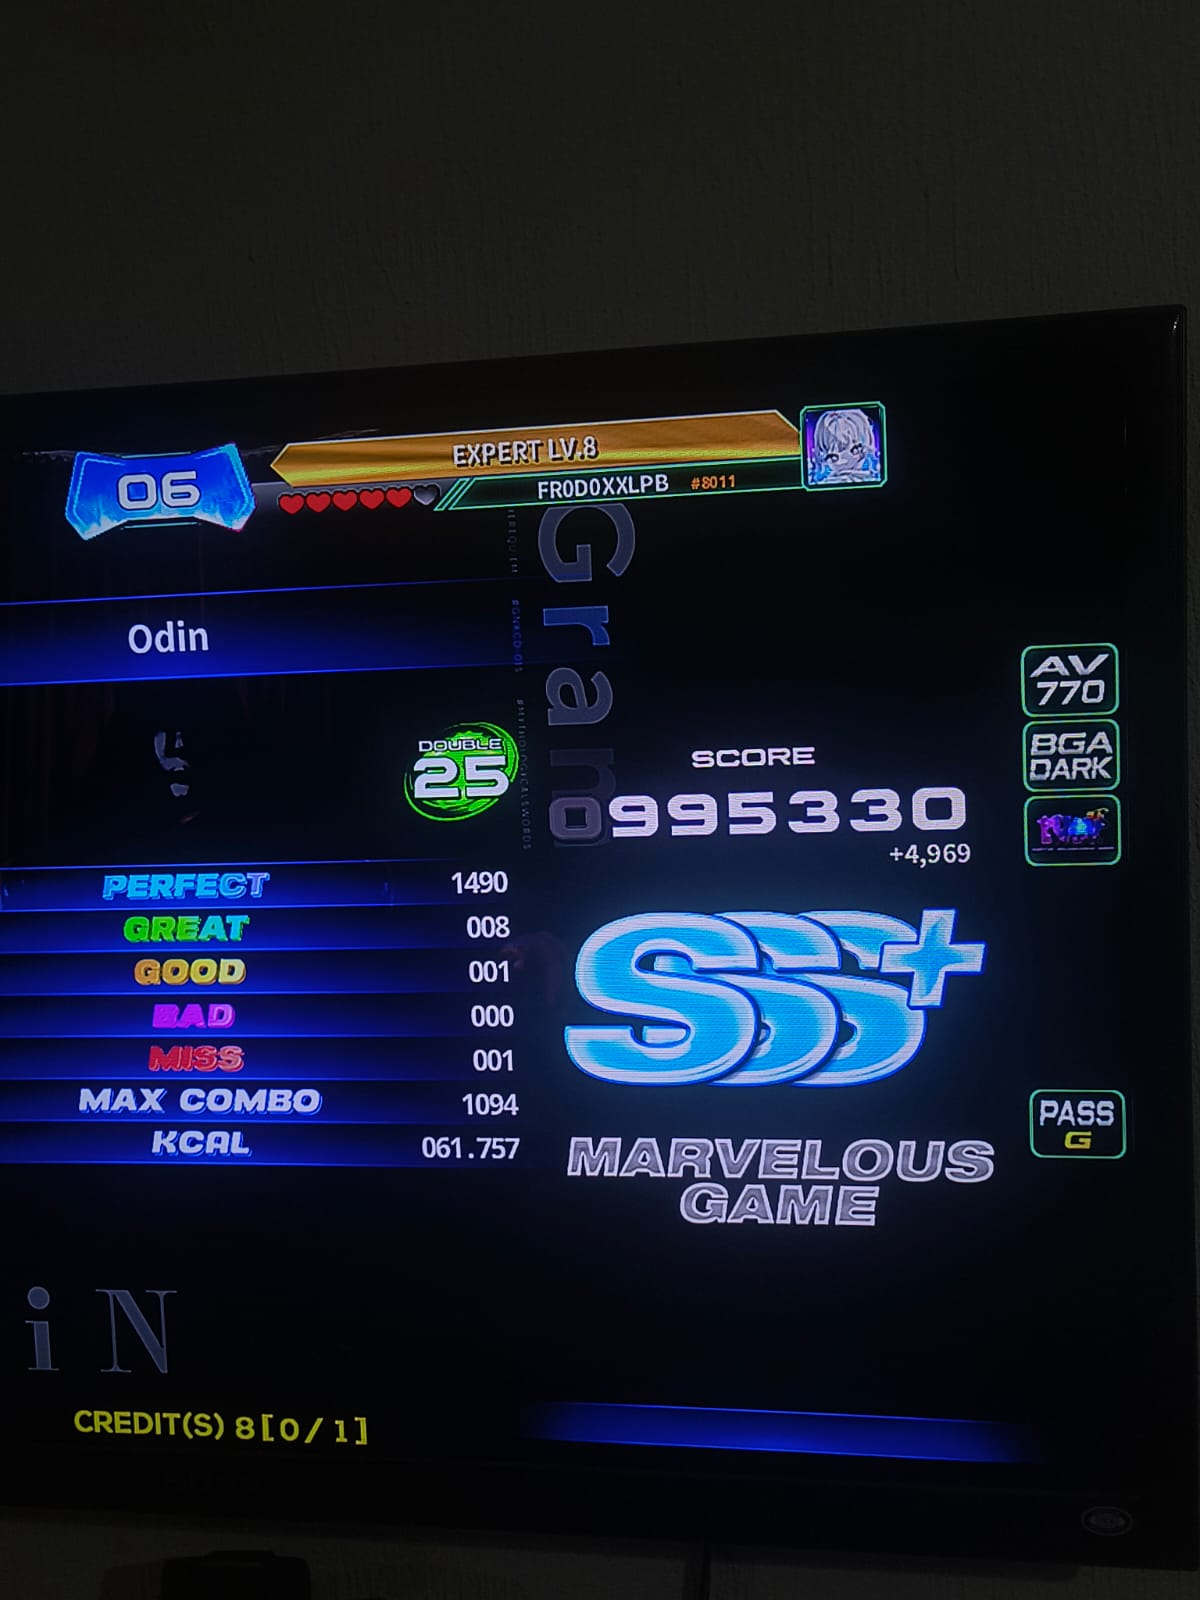difficulty: (373, 713, 543, 829)
fullscore: (34, 416, 1166, 1480)
rank: (551, 898, 964, 1094)
score: (580, 740, 996, 855)
song_name: (16, 593, 389, 692)
